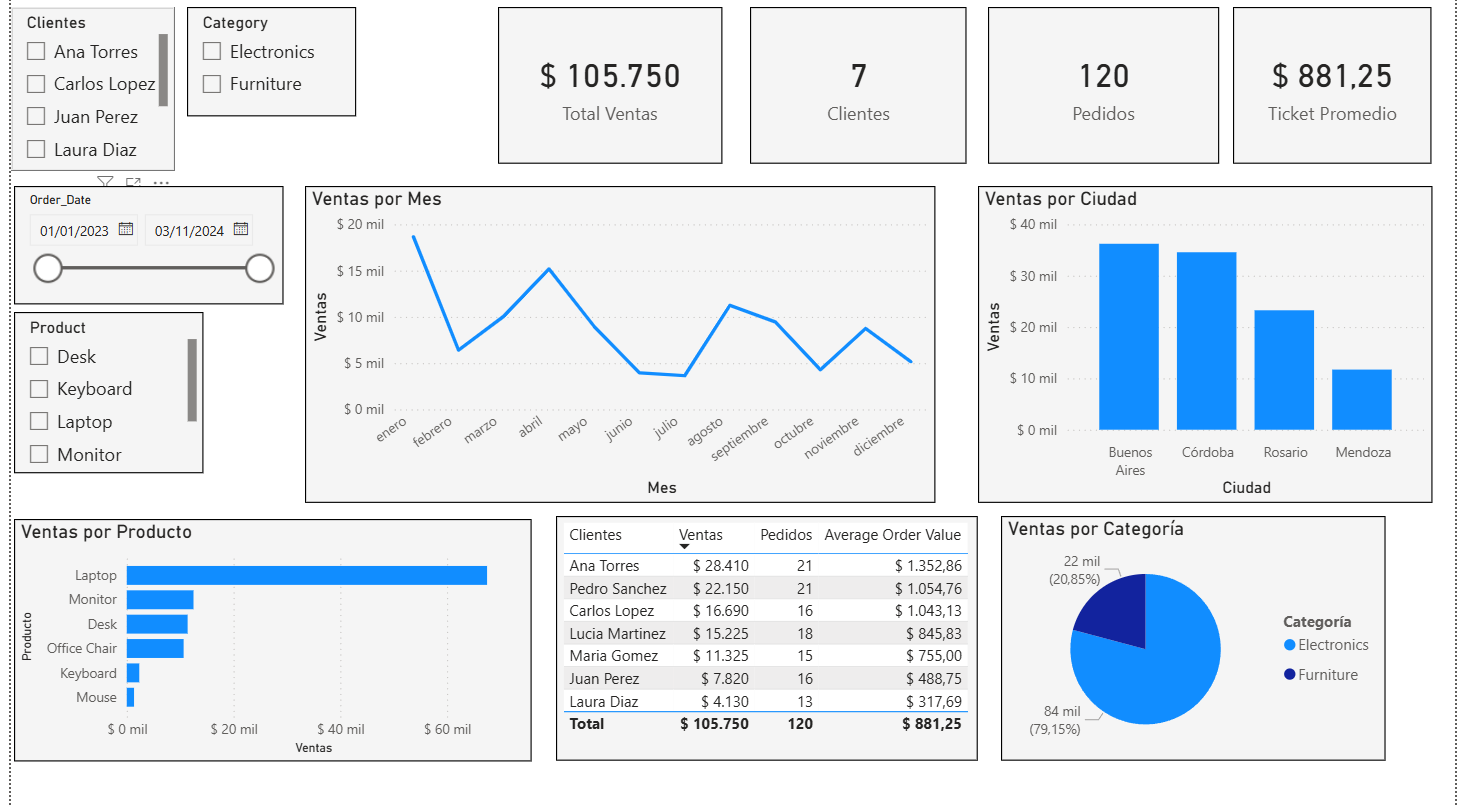

What the dashboard file says about the page in this screenshot:
{"tool":"powerbi","page":{"name":"Página 1","canvas":[1280,720],"ordinal":0},"visuals":[{"type":"card","fields":{"Values":["Clean_Data.Total Ventas"]},"box":[431.8,11.5,198.6,139.2],"z":0},{"type":"card","fields":{"Values":["Clean_Data.Clientes"]},"box":[655.3,11.5,192.4,139.2],"z":1000},{"type":"card","fields":{"Values":["Clean_Data.Pedidos"]},"box":[866.3,11.5,204.8,139.2],"z":2000},{"type":"lineChart","fields":{"Category":["Clean_Data.Order_Date.Variación.Jerarquía de fechas.Mes","Clean_Data.Order_Date.Variación.Jerarquía de fechas.Día"],"Y":["Sum(Clean_Data.Total_Sales)"]},"box":[260.7,170.2,559.3,281.1],"z":3000},{"type":"columnChart","fields":{"Category":["Clean_Data.City"],"Y":["Sum(Clean_Data.Total_Sales)"]},"box":[857.9,170.2,402.7,281.1],"z":4000},{"type":"clusteredBarChart","fields":{"Category":["Clean_Data.Product"],"Y":["Sum(Clean_Data.Total_Sales)"]},"box":[2.7,465.5,459.3,214.6],"z":5000},{"type":"tableEx","fields":{"Values":["Clean_Data.Customer_Name","Sum(Clean_Data.Total_Sales)","Clean_Data.Pedidos","Clean_Data.Average Order Value"]},"box":[483.3,462.9,374.2,217.2],"z":6000},{"type":"slicer","fields":{"Values":["Clean_Data.Customer_Name"]},"box":[0,11.5,144.5,144.5],"z":7000},{"type":"slicer","fields":{"Values":["Clean_Data.Order_Date"]},"box":[2.7,170.2,239.4,104.6],"z":8000},{"type":"slicer","fields":{"Values":["Clean_Data.Product"]},"box":[2.7,282,168.5,142.8],"z":9000},{"type":"slicer","fields":{"Values":["Clean_Data.Category"]},"box":[156.1,11.5,149.9,96.7],"z":10000},{"type":"card","fields":{"Values":["Clean_Data.Ticket_Promedio"]},"box":[1083.5,11.5,176.5,139.2],"z":11000},{"type":"pieChart","fields":{"Category":["Clean_Data.Category"],"Y":["Sum(Clean_Data.Total_Sales)"]},"box":[877.8,462.9,341.4,217.2],"z":11001}]}

Visuals, with their boxes in screenshot pixels (x1, y1, x2, y2), scaled from the page's 1280x720 canvas onto the 1462x805 screenshot:
card - Clean_Data.Total Ventas: BBox(493, 13, 720, 168)
card - Clean_Data.Clientes: BBox(748, 13, 968, 168)
card - Clean_Data.Pedidos: BBox(989, 13, 1223, 168)
lineChart - Clean_Data.Order_Date.Variación.Jerarquía de fechas.Mes x Clean_Data.Order_Date.Variación.Jerarquía de fechas.Día: BBox(298, 190, 937, 505)
columnChart - Clean_Data.City x Sum(Clean_Data.Total_Sales): BBox(980, 190, 1440, 505)
clusteredBarChart - Clean_Data.Product x Sum(Clean_Data.Total_Sales): BBox(3, 520, 528, 760)
tableEx - Clean_Data.Customer_Name x Sum(Clean_Data.Total_Sales): BBox(552, 518, 979, 760)
slicer - Clean_Data.Customer_Name: BBox(0, 13, 165, 174)
slicer - Clean_Data.Order_Date: BBox(3, 190, 277, 307)
slicer - Clean_Data.Product: BBox(3, 315, 196, 475)
slicer - Clean_Data.Category: BBox(178, 13, 350, 121)
card - Clean_Data.Ticket_Promedio: BBox(1238, 13, 1439, 168)
pieChart - Clean_Data.Category x Sum(Clean_Data.Total_Sales): BBox(1003, 518, 1393, 760)
